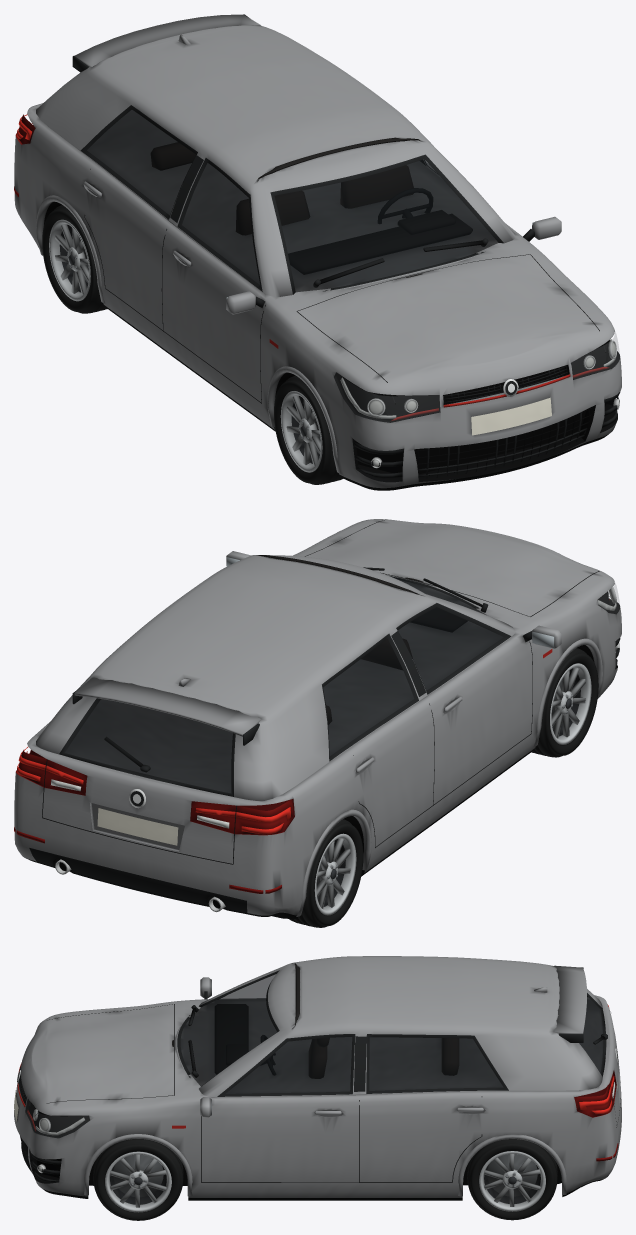
File: volkswagen-golf-gti.glb
3 views of the same model, one above another, from view 1: azimuth 30°, elevation 25°; view 2: azimuth 150°, elevation 25°; view 3: azimuth 270°, elevation 25° (orthographic). The views are drawn at different scales.
Visible parts, largest first — view 1: Coachwork, Body, Wheel_FR, Wheel_RR, Plate, Headlights; view 2: Coachwork, Body, Wheel_FR, Wheel_RR, Taillights, Plate; view 3: Coachwork, Body, Wheel_FL, Wheel_RL, Taillights.
Boxes of the visible parts, x1,y1,x2,y2 form: Coachwork: (14,103,621,490); Body: (14,14,620,478); Wheel_FR: (274,375,343,484); Wheel_RR: (42,205,107,313); Plate: (471,397,551,435); Headlights: (340,339,619,466); Coachwork: (14,519,621,918); Body: (14,519,620,916); Wheel_FR: (531,648,598,757); Wheel_RR: (289,819,363,927); Taillights: (17,747,293,834); Plate: (97,808,178,845); Coachwork: (14,995,621,1200); Body: (17,956,620,1196); Wheel_FL: (93,1139,183,1220); Wheel_RL: (467,1139,557,1220); Taillights: (574,1005,614,1116).
Bounding box in the file's own units: 2.16 × 1.44 × 4.28.
